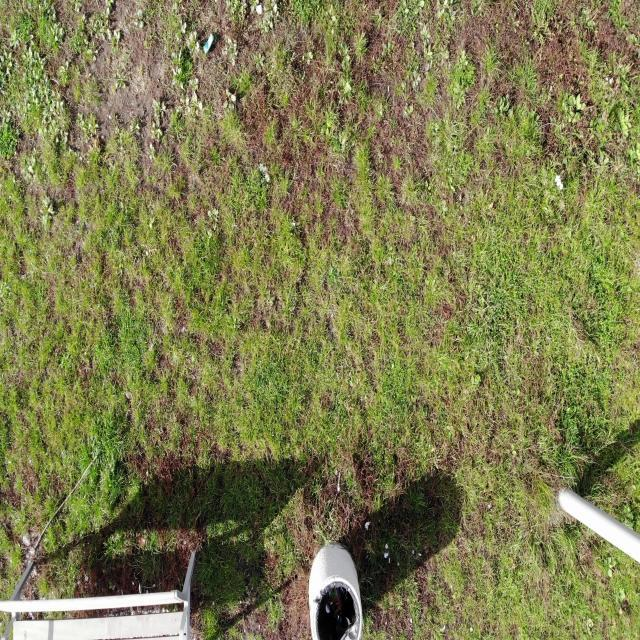rubbish: (203, 32, 215, 60)
